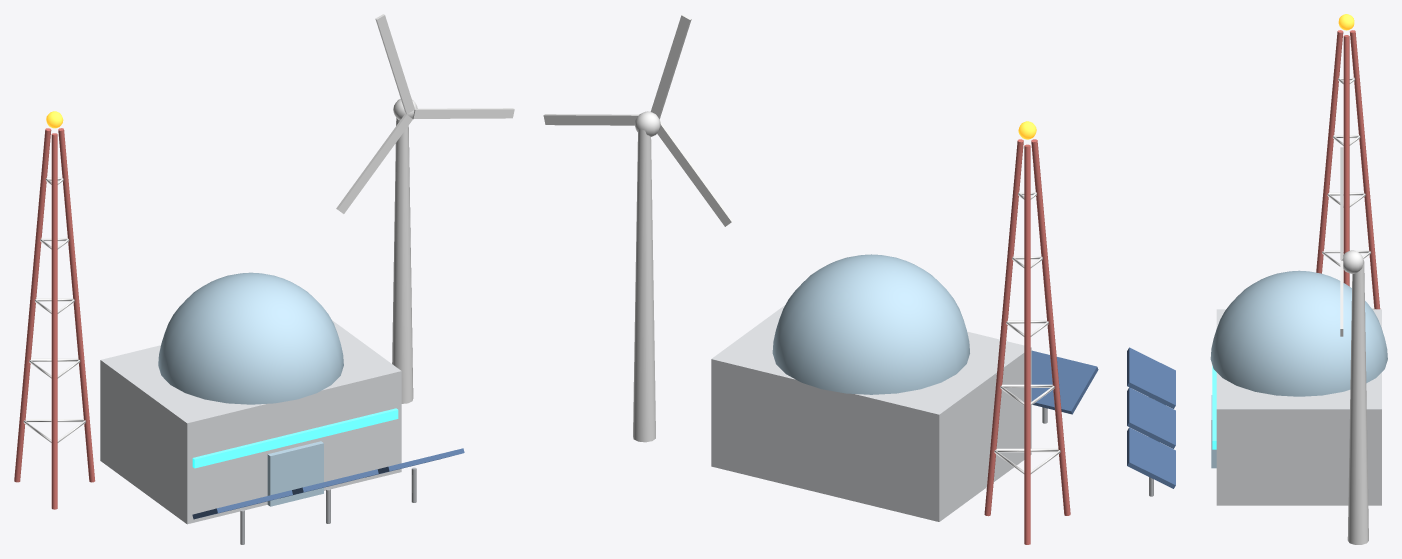
File: teknologi.glb
3 renders of one model, left to right at view 1: azimuth 30°, elevation 25°; view 2: azimuth 150°, elevation 25°; view 3: azimuth 270°, elevation 25°, orthographic. The views are drawn at different scales.
Visible parts, largest first — view 1: teknologi; view 2: teknologi; view 3: teknologi.
Part boxes in pixels (<box>): teknologi: <box>14,14,514,544</box>; teknologi: <box>543,14,1098,544</box>; teknologi: <box>1127,14,1387,544</box>.
Bounding box in the file's own units: 4.46 × 3.55 × 2.21.
